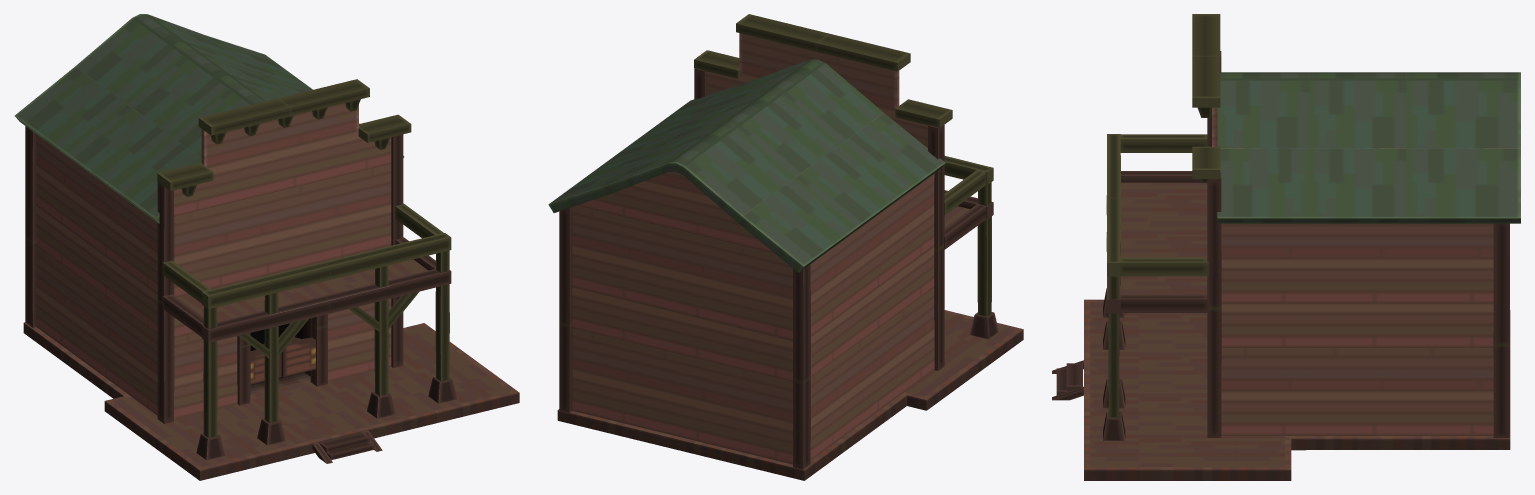
The model's file is house_v3_blank.fbx.
The picture shows the model from 3 angles, left to right: view 1: azimuth 30°, elevation 25°; view 2: azimuth 150°, elevation 25°; view 3: azimuth 270°, elevation 25°; orthographic projection. The views are drawn at different scales.
Parts seen in each view (by area): view 1: house_v3_blank; view 2: house_v3_blank; view 3: house_v3_blank.
Boxes of the visible parts, x1,y1,x2,y2 form: house_v3_blank: [14, 14, 519, 480]; house_v3_blank: [548, 14, 1023, 480]; house_v3_blank: [1052, 14, 1520, 480].
Bounding box in the file's own units: 826 × 747 × 964.
